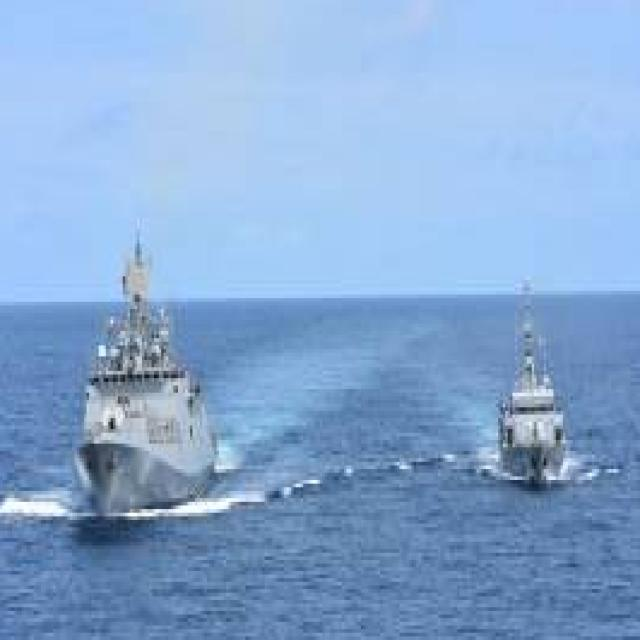navalvessels: (60, 240, 237, 522), (474, 280, 564, 482)
